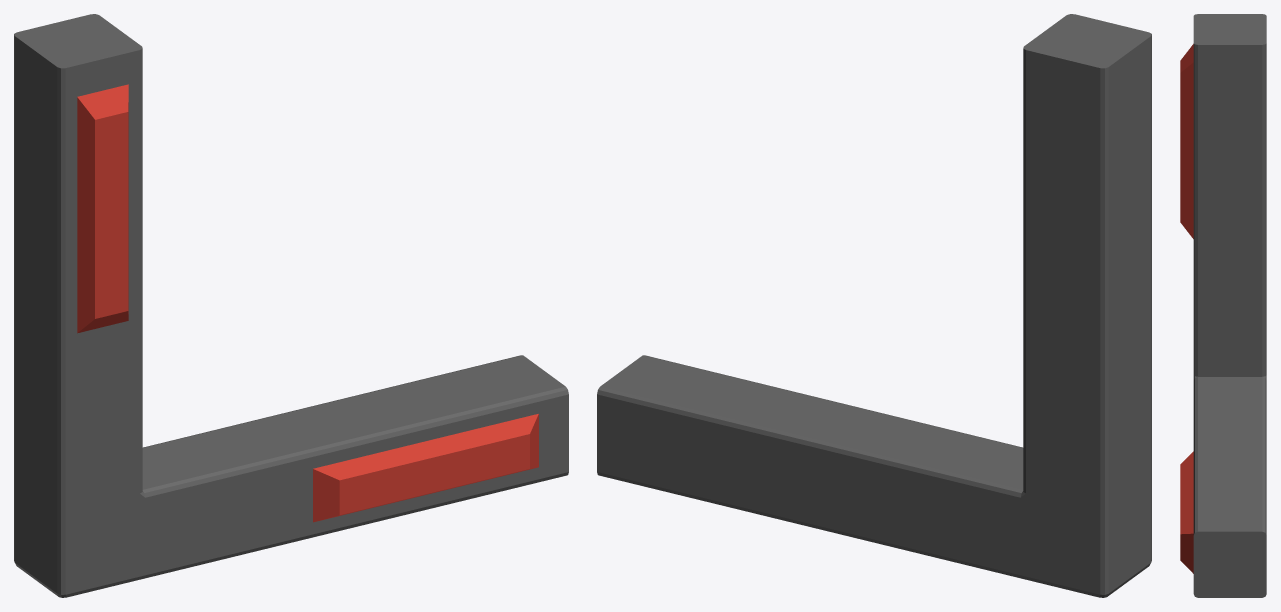
Rendered from WallBend.fbx.
3 views of the same model, side by side, from view 1: azimuth 30°, elevation 25°; view 2: azimuth 150°, elevation 25°; view 3: azimuth 270°, elevation 25° (orthographic). The views are drawn at different scales.
Parts seen in each view (by area): view 1: Cube.001; view 2: Cube.001; view 3: Cube.001.
Boxes of the visible parts, x1=… form: Cube.001: x1=14, y1=14, x2=568, y2=597; Cube.001: x1=597, y1=14, x2=1151, y2=597; Cube.001: x1=1180, y1=14, x2=1266, y2=597.
Bounding box in the file's own units: 300 × 300 × 59.14.
